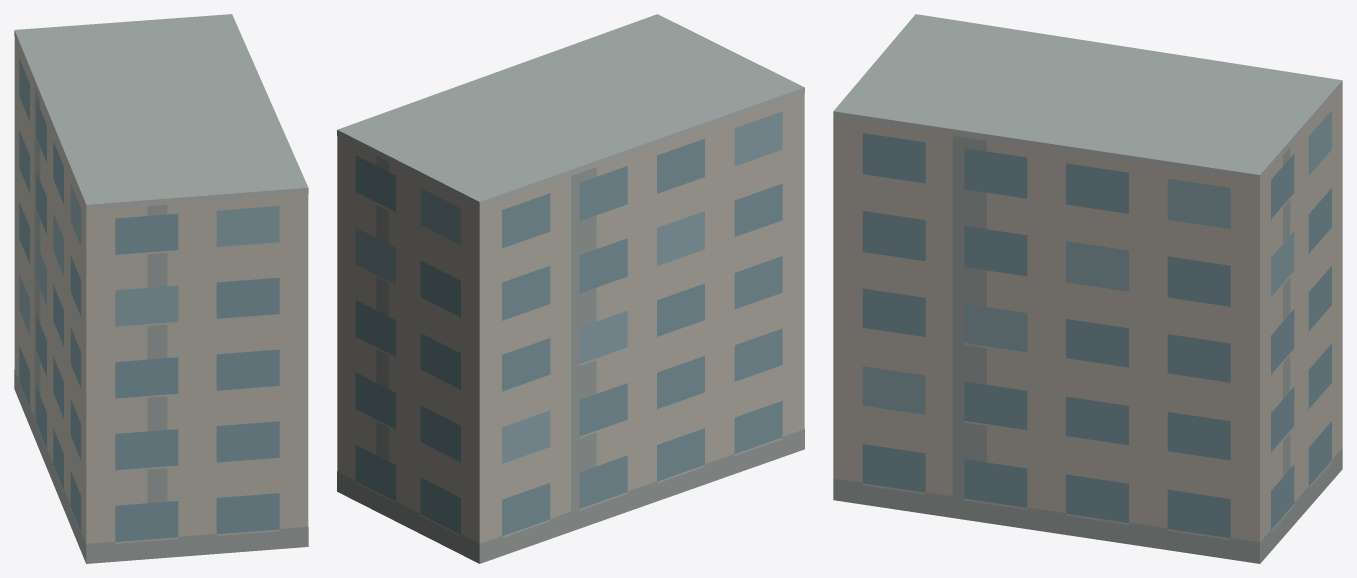
File: survey-upis-32887678.glb
3 views of the same model, side by side, from view 1: azimuth 30°, elevation 25°; view 2: azimuth 150°, elevation 25°; view 3: azimuth 270°, elevation 25° (orthographic). The views are drawn at different scales.
Parts seen in each view (by area): view 1: survey-upis-32887678.tmp; view 2: survey-upis-32887678.tmp; view 3: survey-upis-32887678.tmp.
Part boxes in pixels (bbox=[...]): survey-upis-32887678.tmp: bbox=[14, 14, 308, 563]; survey-upis-32887678.tmp: bbox=[337, 14, 804, 563]; survey-upis-32887678.tmp: bbox=[833, 14, 1342, 563].
Bounding box in the file's own units: 12.63 × 14.2 × 16.87.
